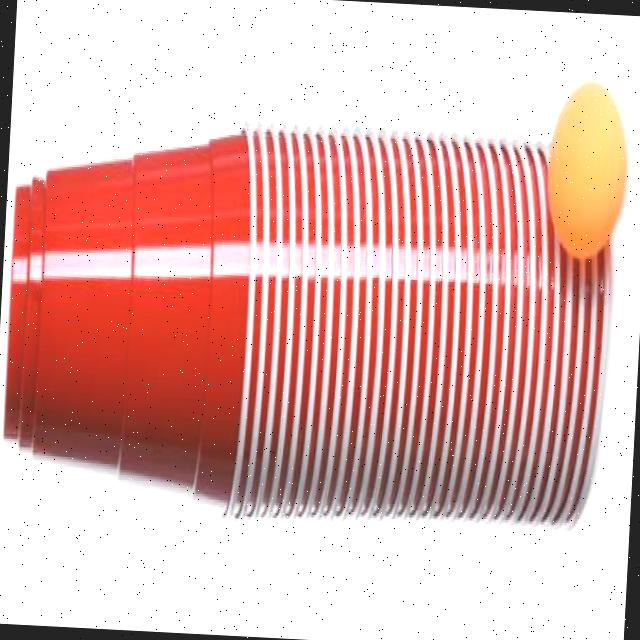ping-pong-ball: (540, 76, 626, 262)
